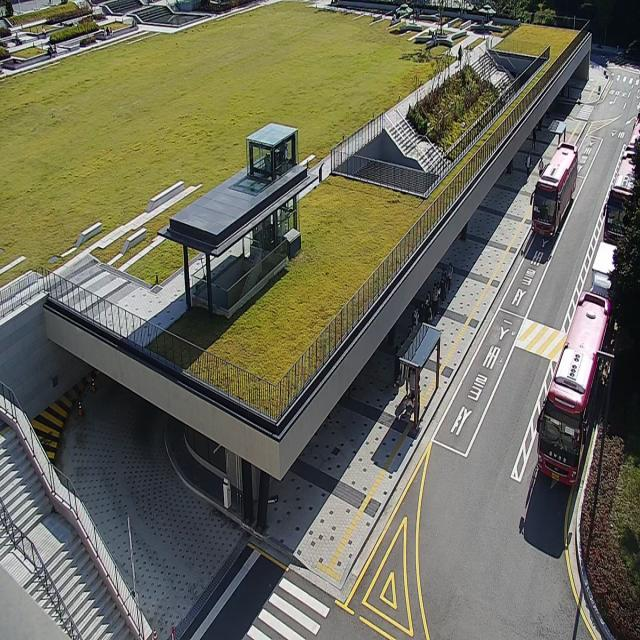queue: (414, 261, 452, 434)
